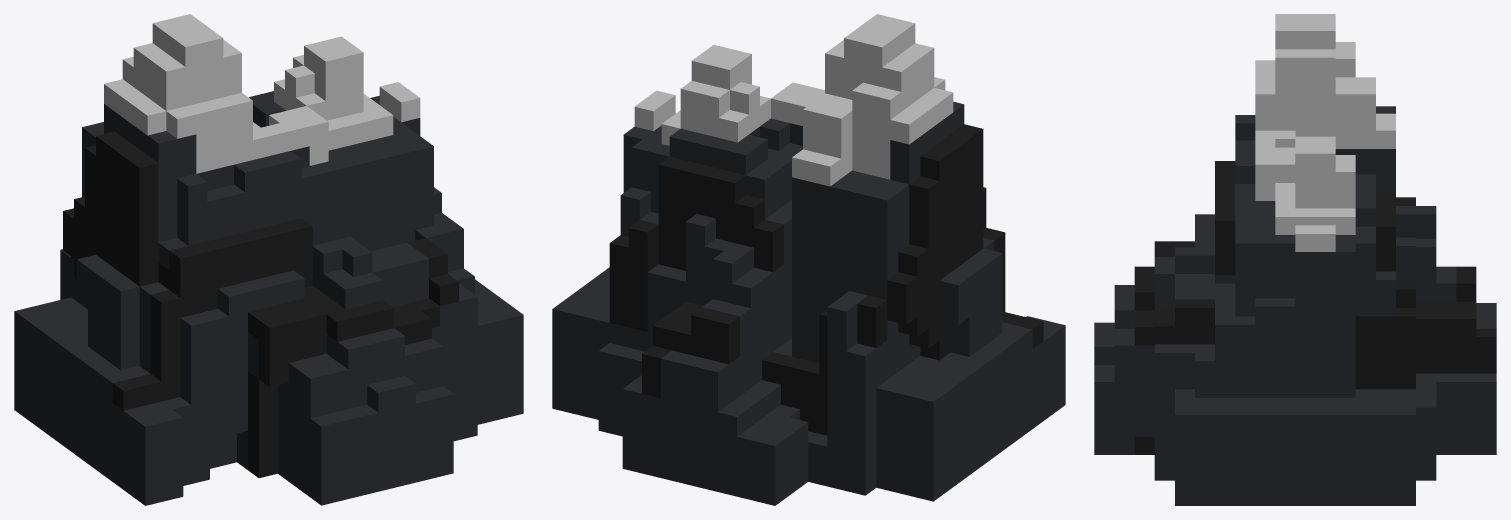
Rendered from prop-mountain1.obj.
The picture shows the model from 3 angles, left to right: view 1: azimuth 30°, elevation 25°; view 2: azimuth 150°, elevation 25°; view 3: azimuth 270°, elevation 25°; orthographic projection. The views are drawn at different scales.
Size of the model in its own units: 40 by 40 by 40.
Materials: 1 (1 with a texture image).
